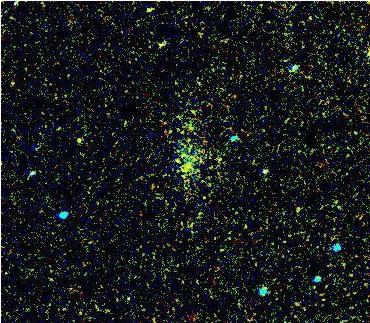star: (63, 126, 93, 156)
